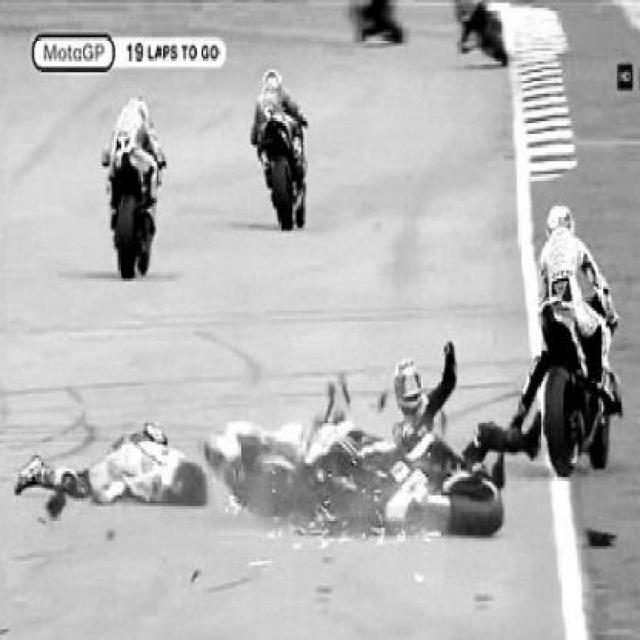fall: (379, 322, 519, 530)
